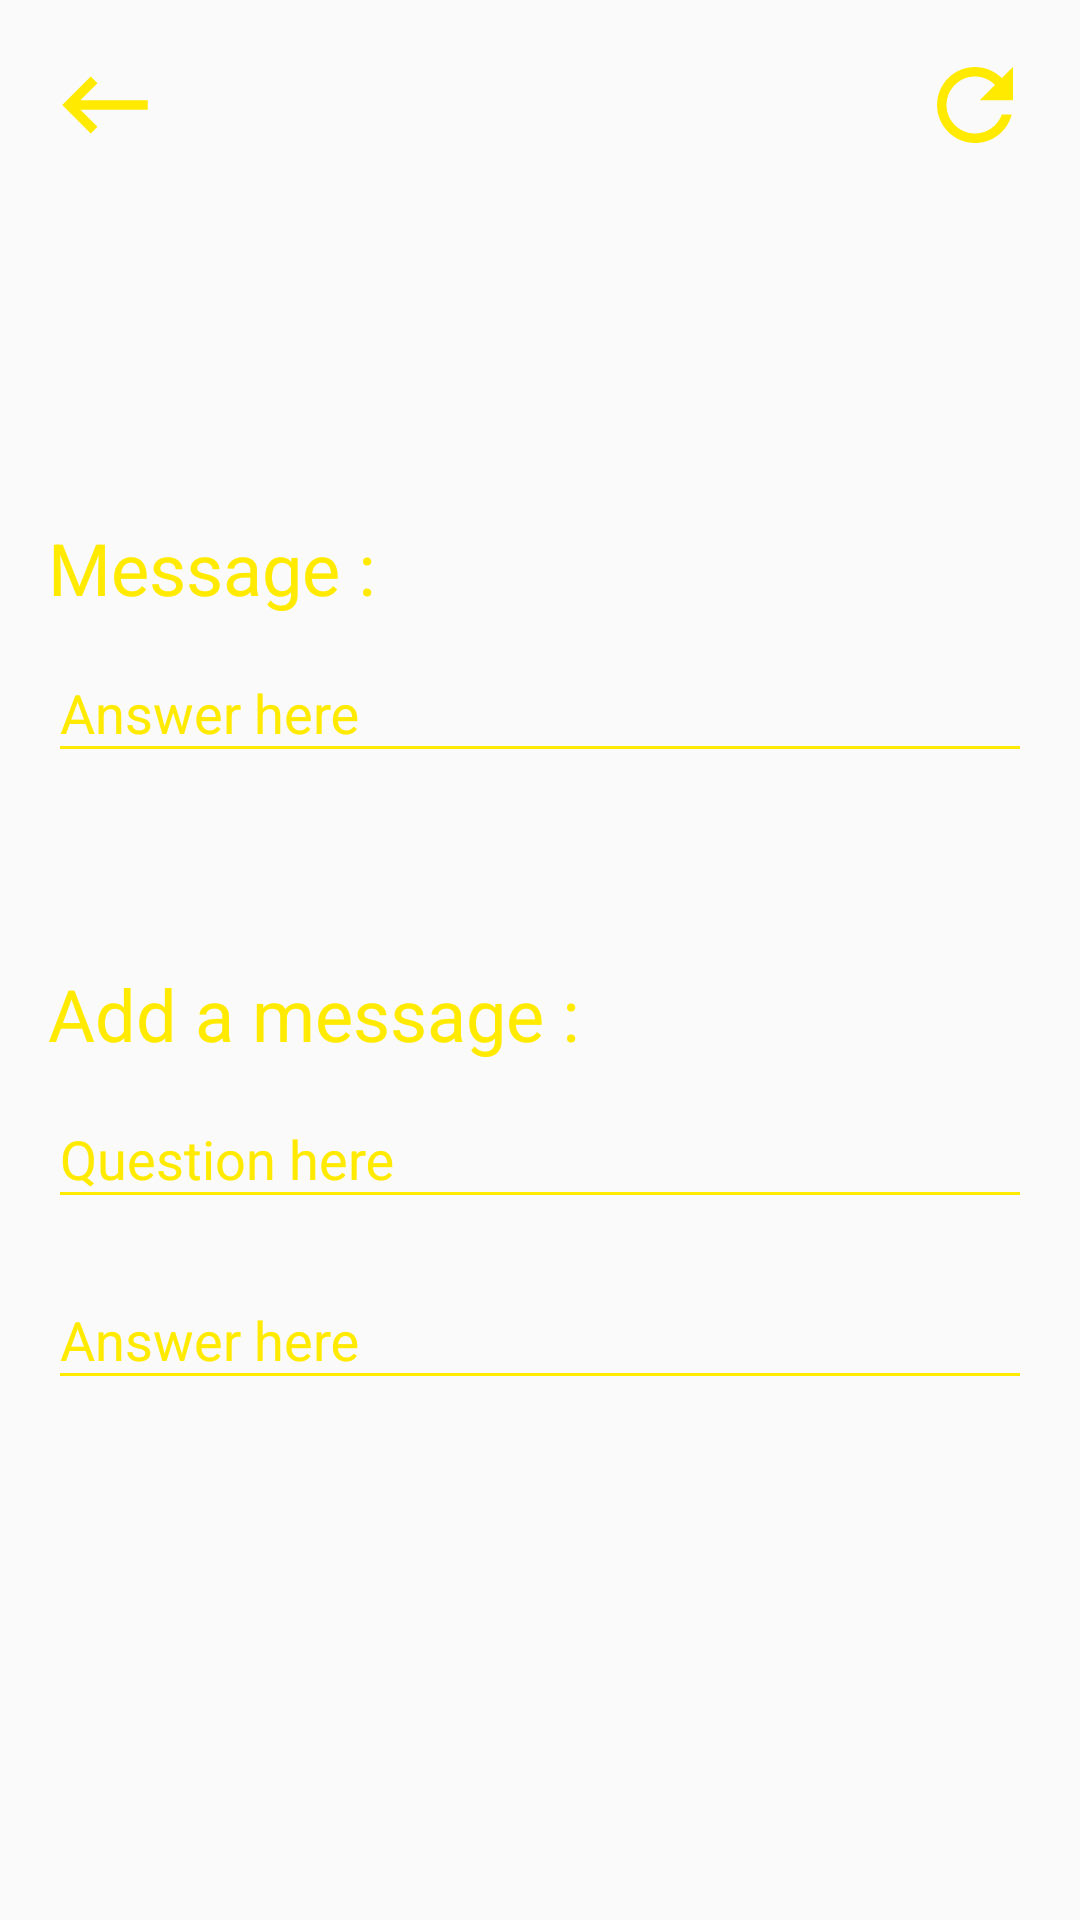

Icons on this 1080px x 1920px Android screen, each with the point to tap as (x=x, y=y):
keyboard backspace: (x=105, y=105)
refresh: (x=975, y=105)
